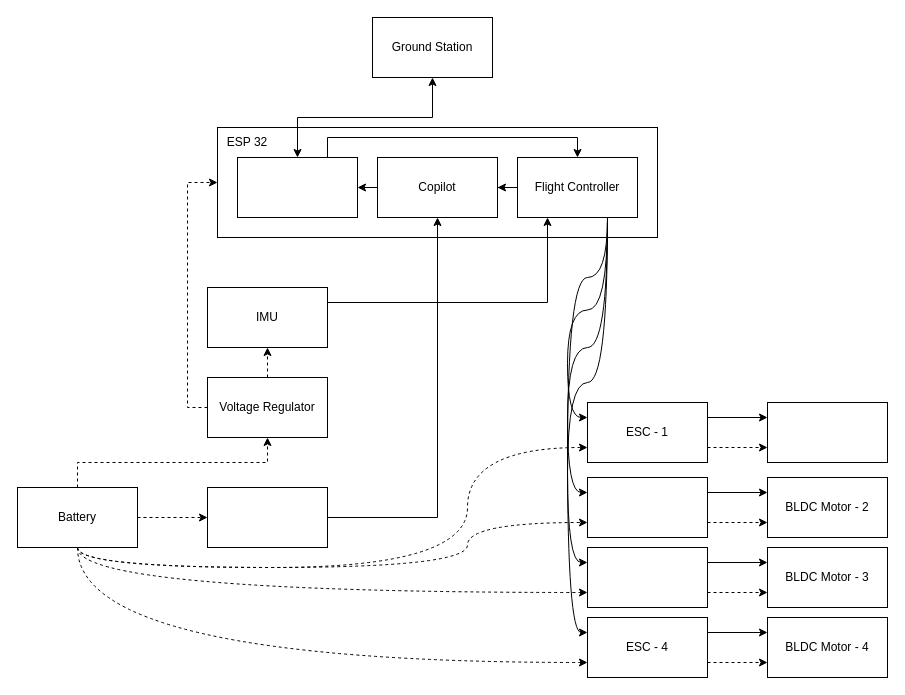
Image size: 905x695. Some labels were removed from this diagram. Here are the shapes that lost their labels. From the top down, the box of each, then its label:
(236, 156, 358, 218): Comms Interface
(766, 402, 888, 462): BLDC Motor - 1
(206, 486, 328, 548): Battery Monitoring System
(586, 476, 708, 538): ESC - 2
(586, 546, 708, 608): ESC - 3
